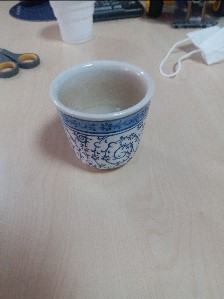cup: (50, 59, 155, 173)
